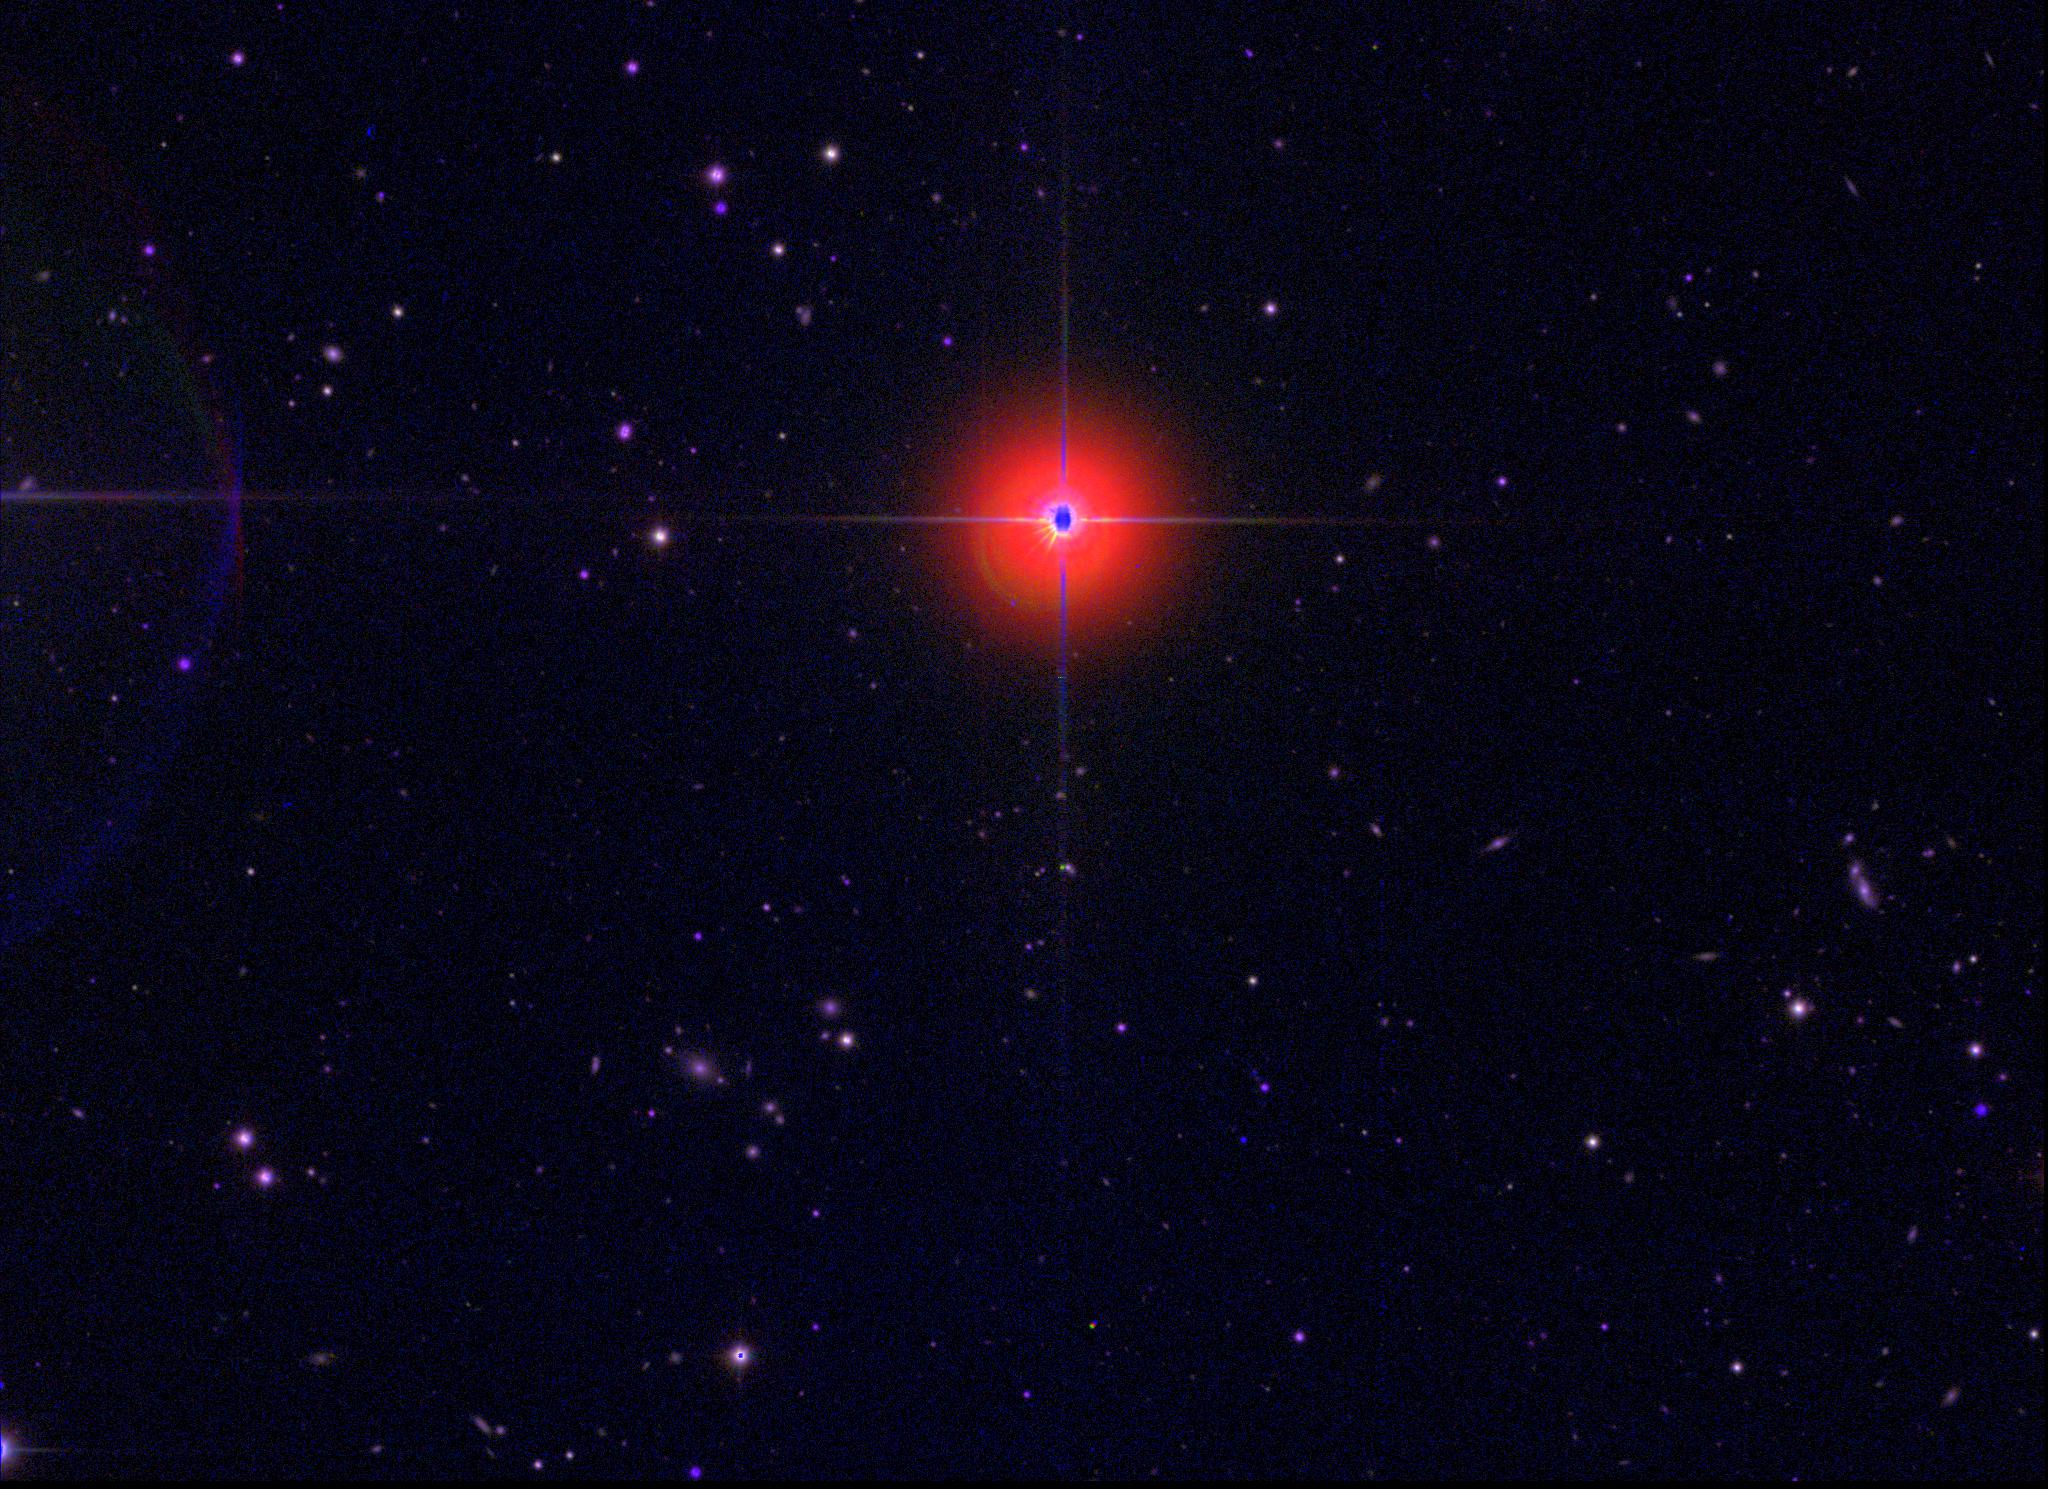L: (1234, 1129, 1248, 1144)
